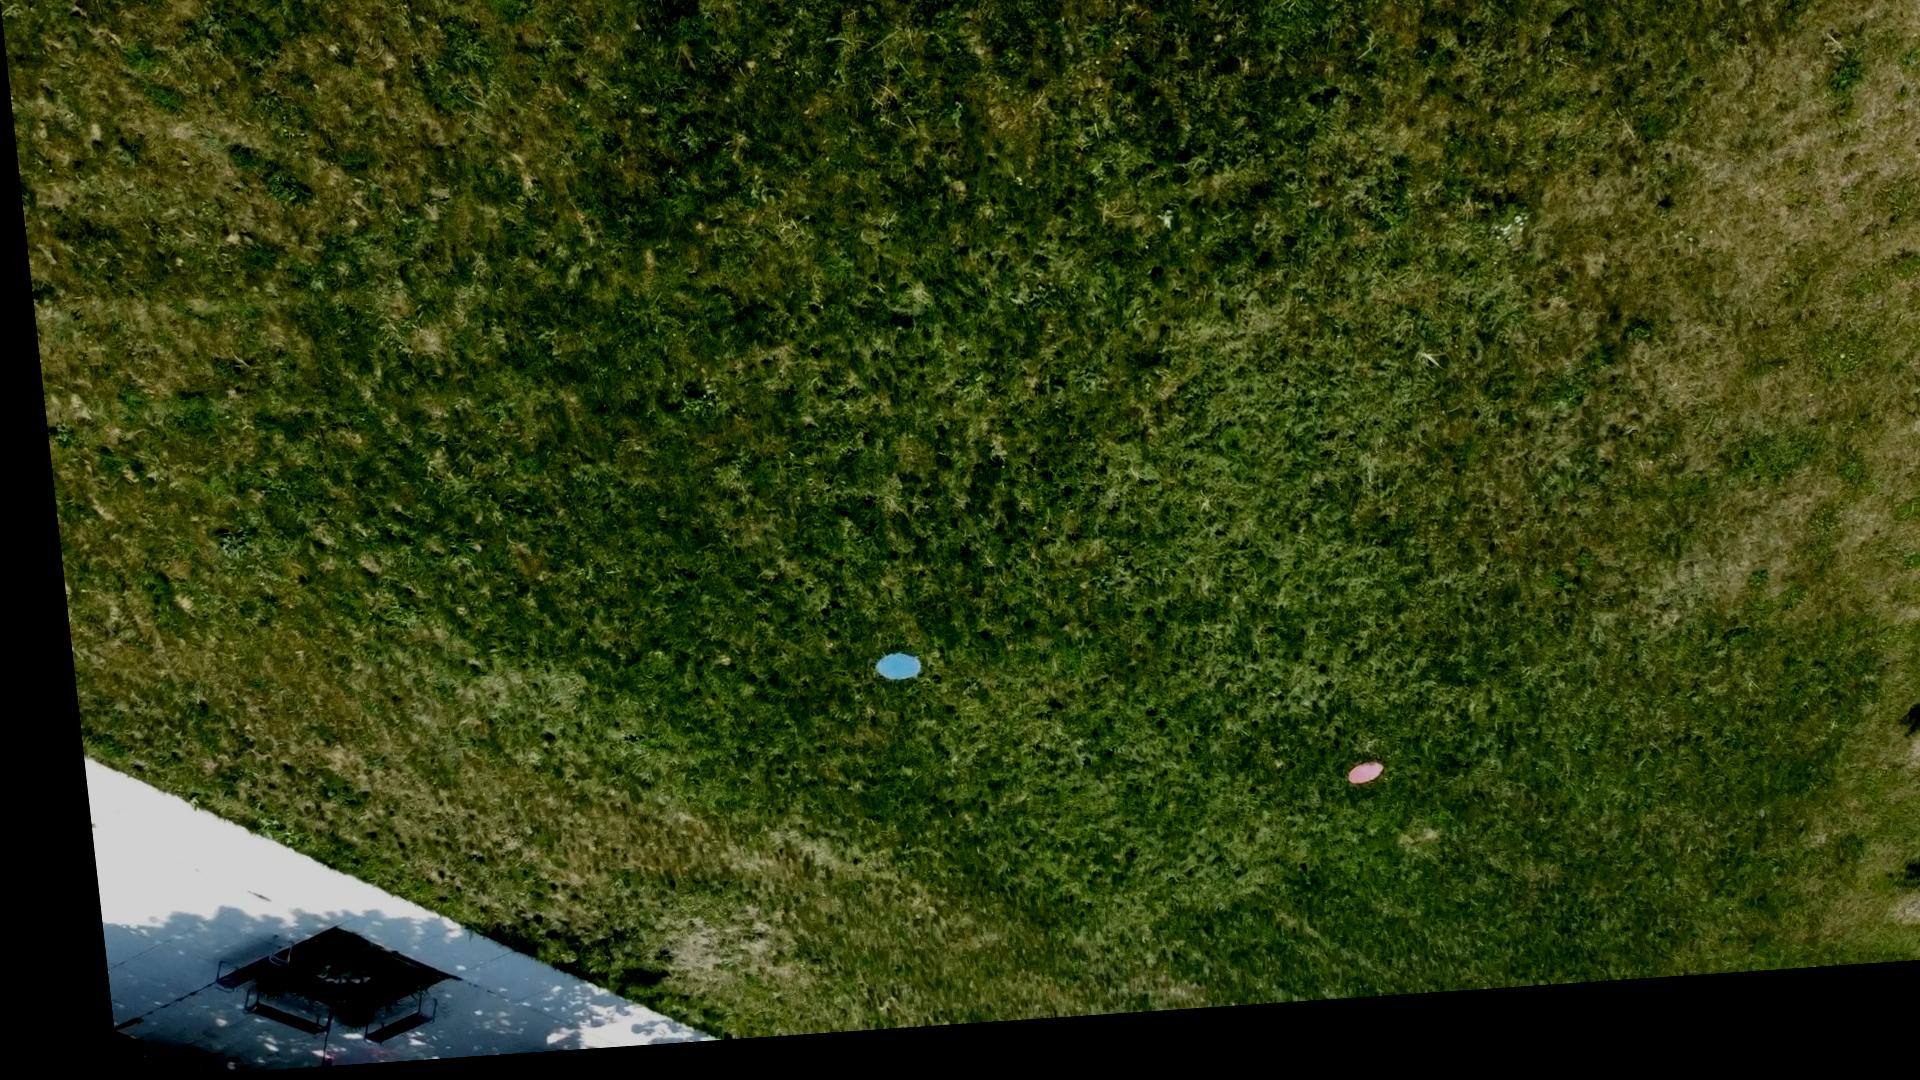Blue: (856, 662, 907, 695)
Red: (1324, 778, 1367, 804)
